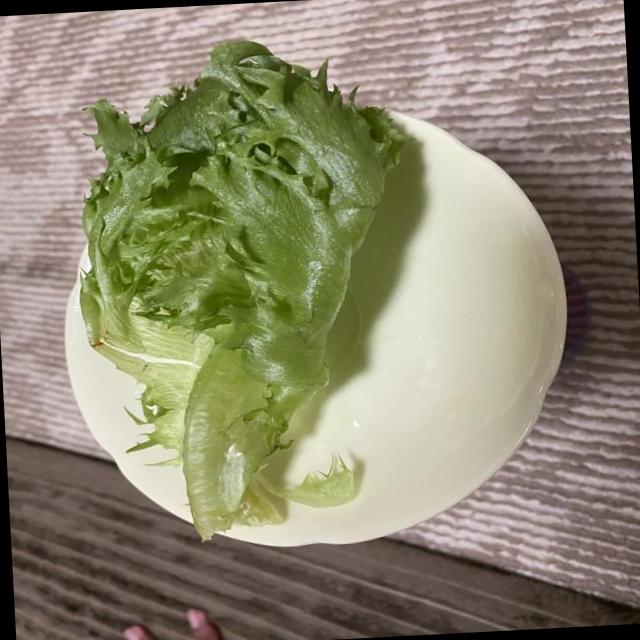Lettuce-Ready-to-Harvest: (81, 41, 406, 538)
